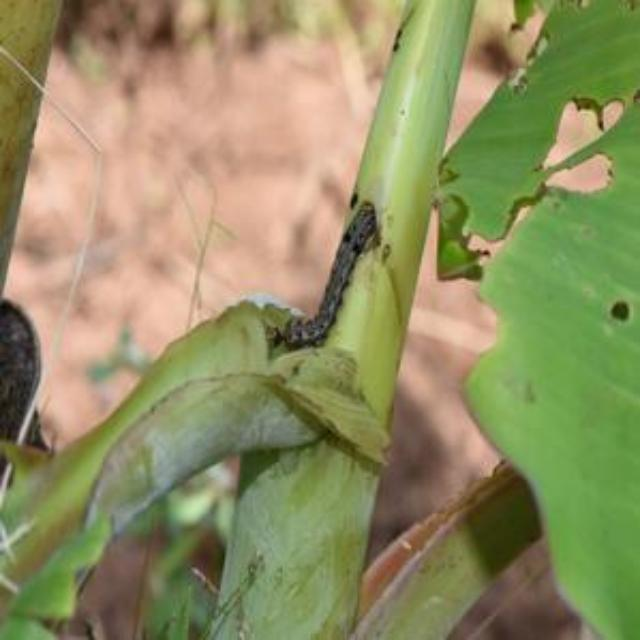Tobacco cutworm: (176, 148, 407, 378)
